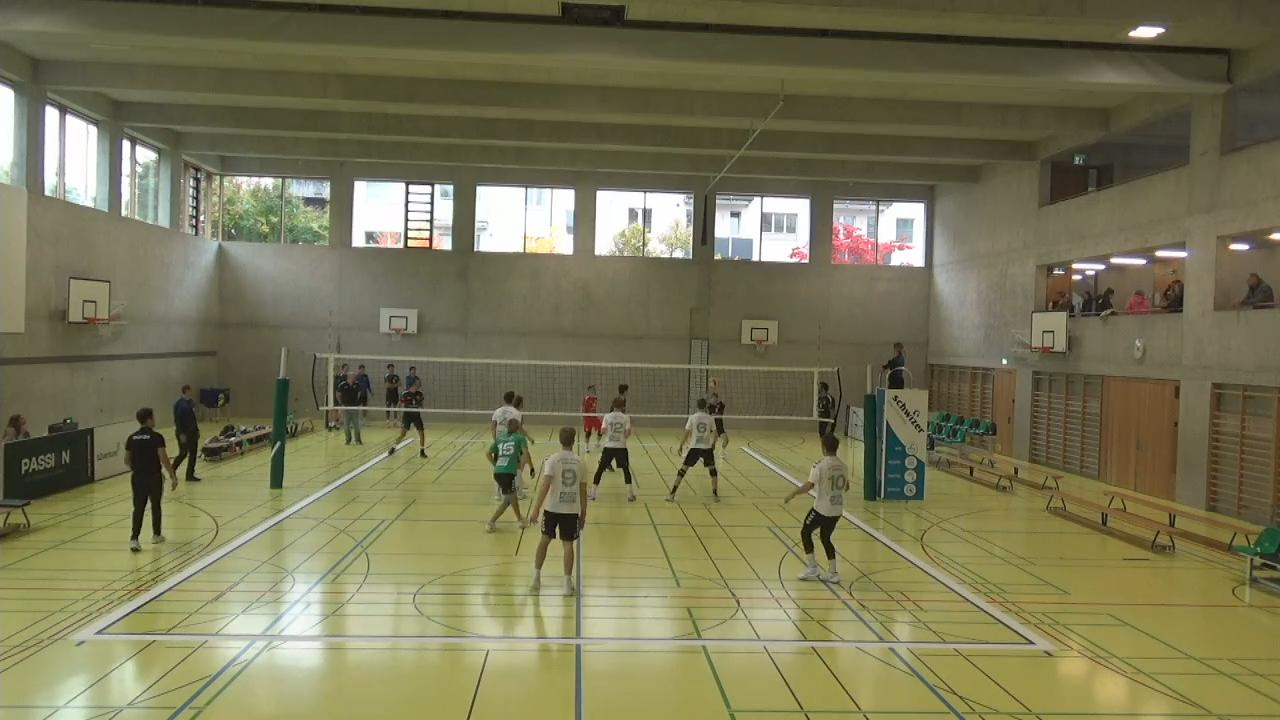Player: (530, 426, 588, 589), (787, 431, 847, 583), (665, 396, 721, 502), (485, 418, 531, 543), (591, 394, 639, 503), (491, 390, 527, 506), (392, 375, 428, 460), (816, 384, 841, 454), (581, 384, 607, 448), (605, 377, 630, 413)
Receive: (705, 377, 729, 458)
ball: (705, 374, 720, 392)
